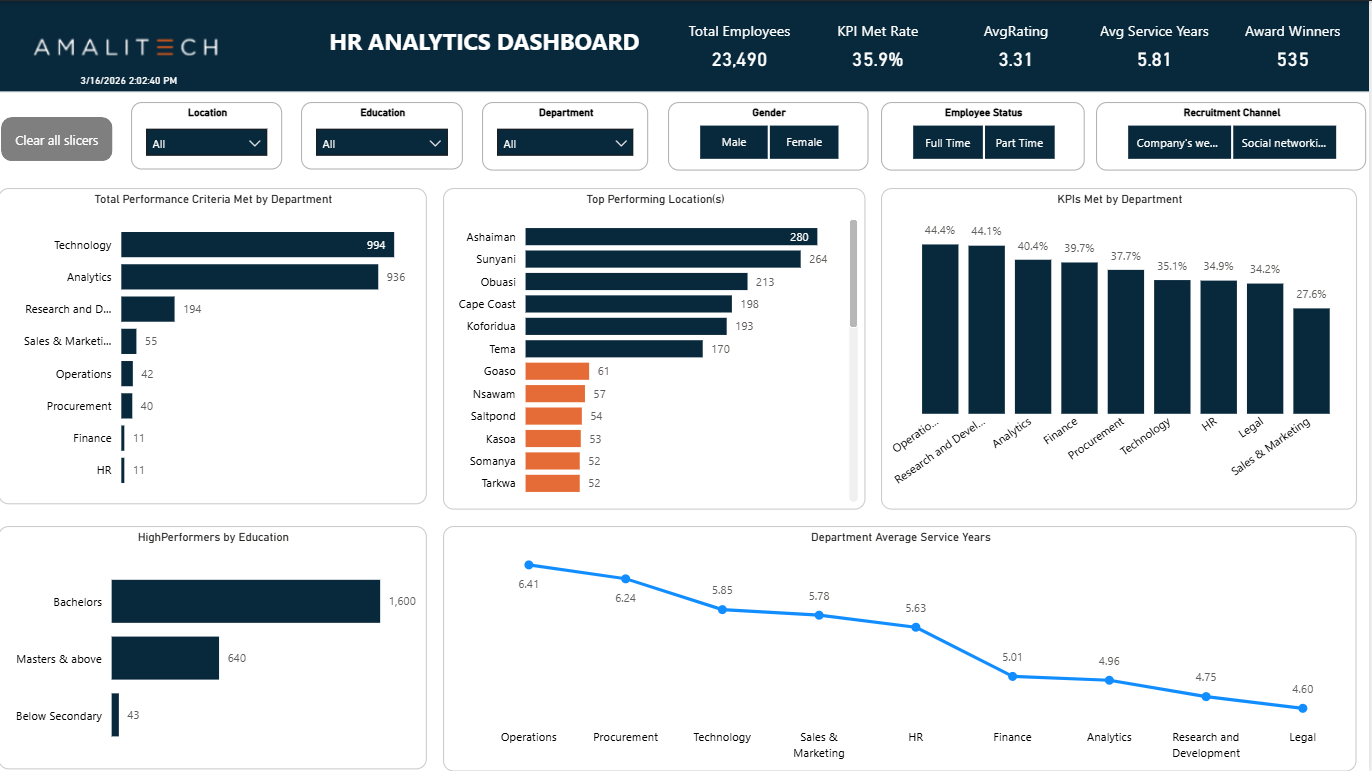

The page's visual inventory and layout, read from the dashboard file:
{"tool":"powerbi","page":{"name":"Department Overview","canvas":[1280,720],"ordinal":1},"visuals":[{"type":"textbox","box":[336.1,18,320.3,47.6],"z":0},{"type":"slicer","fields":{"Values":["Altera_Emp_Data.Gender"]},"box":[593.1,97.9,216.3,88.4],"z":1000},{"type":"slicer","fields":{"Values":["Altera_Emp_Data.Education"]},"box":[194.5,99.3,155.1,88.4],"z":2000},{"type":"slicer","fields":{"Values":["Altera_Emp_Data.Department"]},"box":[372.7,99.3,204,87.1],"z":3000},{"type":"slicer","fields":{"Values":["Altera_Emp_Data.Location"]},"box":[0,99.3,166,88.4],"z":4000},{"type":"card","title":"Total Awards Won","fields":{"Values":["Altera_Emp_Data.current_date"]},"box":[27.3,63.4,188.9,24],"z":5000},{"type":"slicer","fields":{"Values":["Altera_Emp_Data.FT/PT"]},"box":[825.7,99.3,195.9,89.8],"z":6000},{"type":"barChart","title":"Number of Potential At-Risk Talent","fields":{"Category":["Altera_Emp_Data.Department"],"Y":["MeasureTable.AtRiskCount"]},"box":[825.7,201.3,442.1,225.8],"z":7000},{"type":"clusteredBarChart","title":"Number of Employees by Department ","fields":{"Category":["Altera_Emp_Data.Department"],"Y":["MeasureTable.TotalEmployees"]},"box":[825.7,442.1,442.1,277.5],"z":8000},{"type":"barChart","title":"Educational Level  Department","fields":{"Category":["Altera_Emp_Data.Department"],"Y":["CountNonNull(Altera_Emp_Data.Education)"],"Series":["Altera_Emp_Data.Education"]},"box":[466.6,201.3,346.9,225.8],"z":9000},{"type":"lineChart","title":"Department KPI Met Rate","fields":{"Category":["Altera_Emp_Data.Department"],"Y":["MeasureTable.KPIMetRate"]},"box":[0,201.3,458.4,225.8],"z":10000},{"type":"cardVisual","fields":{"Data":["MeasureTable.TotalEmployees","MeasureTable.KPIMetRate","MeasureTable.AvgRating","MeasureTable.AvgServiceYears","MeasureTable.AwardWinners"]},"box":[665.2,0,614.8,84.3],"z":11000},{"type":"slicer","fields":{"Values":["Altera_Emp_Data.Recruitment_Channell"]},"box":[1042,99.3,225.8,89.8],"z":12000},{"type":"lineChart","title":"Avg Service Years by Department","fields":{"Category":["Altera_Emp_Data.Department"],"Y":["MeasureTable.AvgServiceYears"]},"box":[0,442.1,458.4,277.5],"z":13000},{"type":"tableEx","title":"Employee Risk Watchlist","fields":{"Values":["Altera_Emp_Data.Department","Altera_Emp_Data.EmpID","MeasureTable.AtRiskCount"]},"box":[466.6,442.1,342.8,277.5],"z":14000},{"type":"actionButton","box":[763.1,442.1,46.2,39.4],"z":15000},{"type":"actionButton","box":[1221.8,200.8,45.6,39.9],"z":16000}]}

Visuals, with their boxes in screenshot pixels (x1, y1, x2, y2), scaled from the page's 1280x720 canvas onto the 1372x771 screenshot:
textbox: region(360, 19, 704, 70)
slicer - Altera_Emp_Data.Gender: region(636, 105, 868, 199)
slicer - Altera_Emp_Data.Education: region(208, 106, 375, 201)
slicer - Altera_Emp_Data.Department: region(399, 106, 618, 200)
slicer - Altera_Emp_Data.Location: region(0, 106, 178, 201)
"Total Awards Won" card: region(29, 68, 232, 94)
slicer - Altera_Emp_Data.FT/PT: region(885, 106, 1095, 202)
"Number of Potential At-Risk Talent" barChart: region(885, 216, 1359, 457)
"Number of Employees by Department " clusteredBarChart: region(885, 473, 1359, 770)
"Educational Level  Department" barChart: region(500, 216, 872, 457)
"Department KPI Met Rate" lineChart: region(0, 216, 491, 457)
cardVisual - MeasureTable.TotalEmployees x MeasureTable.KPIMetRate: region(713, 0, 1371, 90)
slicer - Altera_Emp_Data.Recruitment_Channell: region(1117, 106, 1359, 202)
"Avg Service Years by Department" lineChart: region(0, 473, 491, 770)
"Employee Risk Watchlist" tableEx: region(500, 473, 868, 770)
actionButton: region(818, 473, 867, 516)
actionButton: region(1310, 215, 1358, 258)
